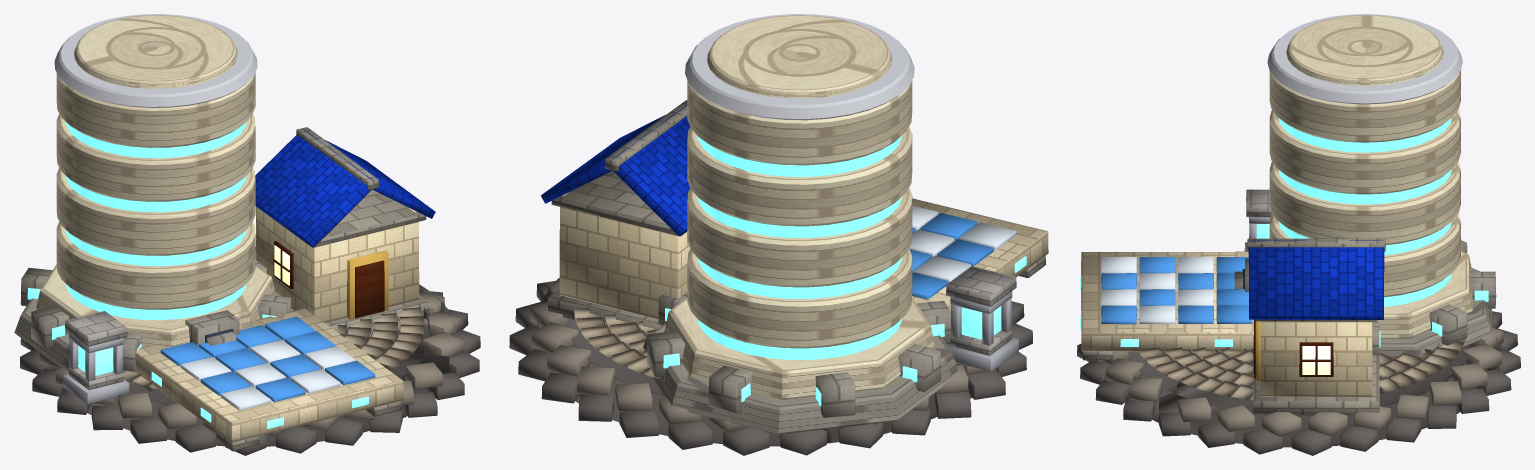
The model's file is architect_island.glb.
3 views of the same model, side by side, from view 1: azimuth 30°, elevation 25°; view 2: azimuth 150°, elevation 25°; view 3: azimuth 270°, elevation 25° (orthographic). The views are drawn at different scales.
Visible parts, largest first — view 1: PlatformBody, TopPlate, DiskStorey_2, DiskStorey_0, DiskStorey_1, Walls, DiskStorey_3, RoofSlope_-1, TopRim, OctBase2, Cornice, CyanRing_3 (+52 smaller); view 2: TopPlate, DiskStorey_1, DiskStorey_0, DiskStorey_2, Walls, DiskStorey_3, OctBase2, OctBase1, TopRim, RoofSlope_-1, Cornice, PlatformBody (+42 smaller); view 3: RoofSlope_1, TopPlate, DiskStorey_2, DiskStorey_1, Walls, DiskStorey_3, PlatformBody, TopRim, DiskStorey_0, OctBase2, Plinth, CoreBase (+51 smaller).
Boxes of the visible parts, x1,y1,x2,y2 form: PlatformBody: (135, 308, 403, 442); TopPlate: (74, 15, 237, 88); DiskStorey_2: (56, 113, 255, 201); DiskStorey_0: (56, 221, 255, 309); DiskStorey_1: (56, 167, 255, 255); Walls: (256, 207, 419, 322); DiskStorey_3: (56, 72, 255, 147); RoofSlope_-1: (255, 129, 372, 247); TopRim: (54, 14, 257, 107); OctBase2: (36, 264, 275, 347); Cornice: (255, 189, 426, 247); CyanRing_3: (65, 121, 246, 158); TopPlate: (707, 15, 892, 98); DiskStorey_1: (687, 187, 912, 287); DiskStorey_0: (687, 248, 912, 348); DiskStorey_2: (687, 126, 912, 226); Walls: (559, 207, 690, 319); DiskStorey_3: (687, 80, 912, 165); OctBase2: (664, 297, 935, 399); OctBase1: (643, 323, 959, 434); TopRim: (685, 14, 914, 120); RoofSlope_-1: (613, 105, 690, 236); Cornice: (551, 171, 687, 236); PlatformBody: (912, 198, 1048, 311); RoofSlope_1: (1248, 240, 1384, 319); TopPlate: (1286, 15, 1443, 85); DiskStorey_2: (1269, 110, 1460, 194); DiskStorey_1: (1269, 162, 1460, 245); Walls: (1260, 321, 1372, 397); DiskStorey_3: (1269, 70, 1460, 142); PlatformBody: (1081, 251, 1253, 351); TopRim: (1267, 14, 1462, 104); DiskStorey_0: (1269, 213, 1460, 297); OctBase2: (1377, 251, 1472, 338); Plinth: (1253, 347, 1379, 414); CoreBase: (1159, 320, 1496, 447).
Bounding box in the file's own units: 4.36 × 3.13 × 4.36.
Materials: 25 (10 with a texture image).
